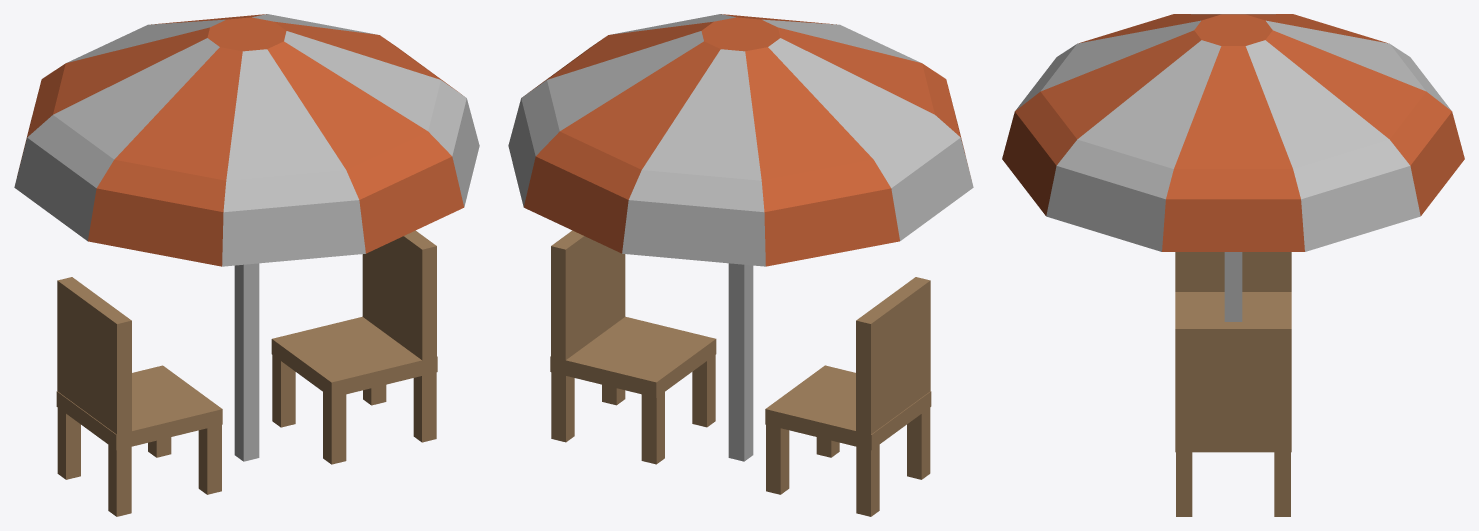
File: props-coffee-shop-chair.glb
3 views of the same model, side by side, from view 1: azimuth 30°, elevation 25°; view 2: azimuth 150°, elevation 25°; view 3: azimuth 270°, elevation 25° (orthographic). The views are drawn at different scales.
Visible parts, largest first — view 1: model; view 2: model; view 3: model.
Boxes of the visible parts, box(x1,y1,x2,y2) form: model: box(14, 14, 479, 516); model: box(508, 14, 973, 516); model: box(1002, 14, 1464, 516).
Bounding box in the file's own units: 2.65 × 2.73 × 2.79.
1 material, 1 textured.
